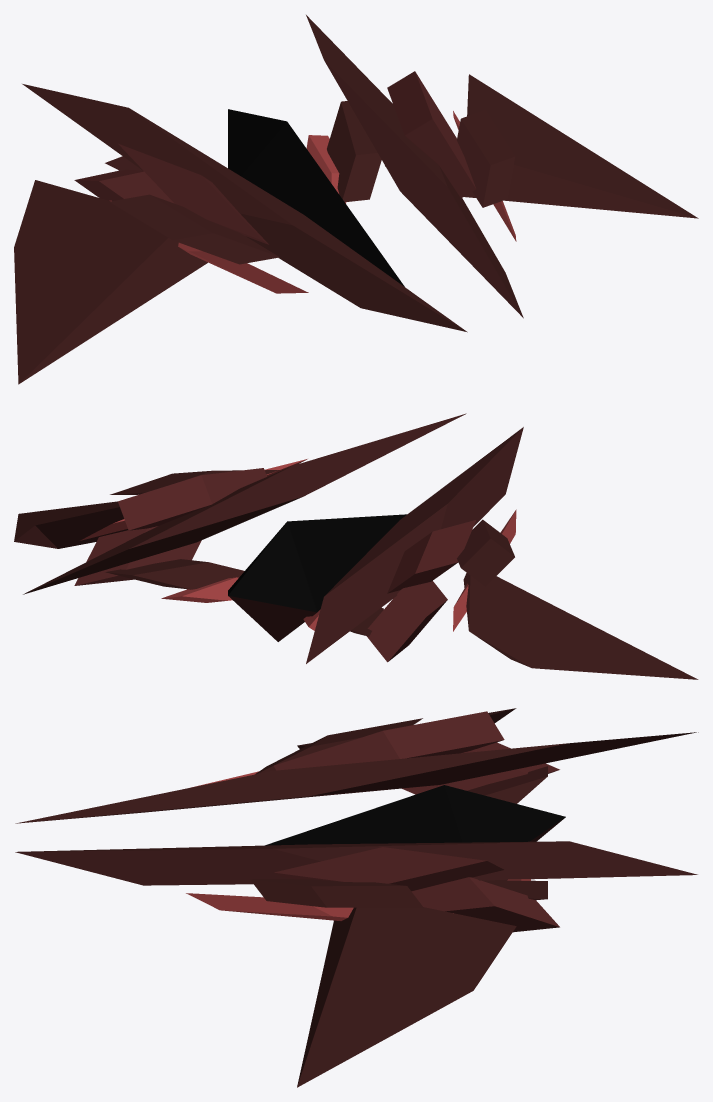
3 views of the same model, one above another, from view 1: azimuth 30°, elevation 25°; view 2: azimuth 150°, elevation 25°; view 3: azimuth 270°, elevation 25° (orthographic). The views are drawn at different scales.
Visible parts, largest first — view 1: LowPolySpaceship09; view 2: LowPolySpaceship09; view 3: LowPolySpaceship09.
Boxes of the visible parts, x1=… form: LowPolySpaceship09: x1=14, y1=15, x2=698, y2=384; LowPolySpaceship09: x1=14, y1=413, x2=698, y2=679; LowPolySpaceship09: x1=15, y1=708, x2=698, y2=1087.
Size of the model in its own units: 5.08 by 0.9127 by 4.3.
